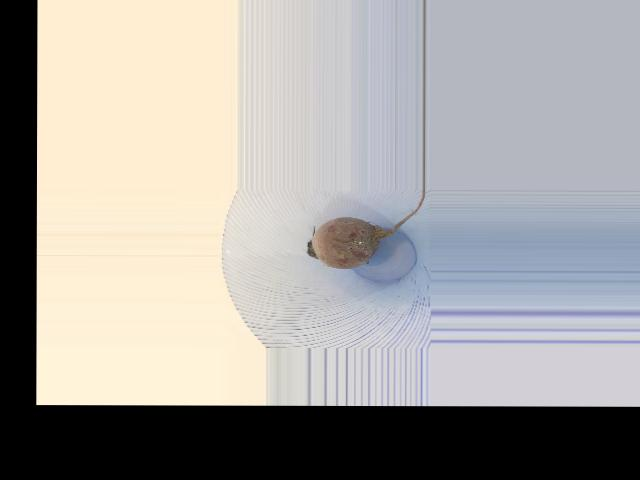beet: (306, 188, 424, 269)
